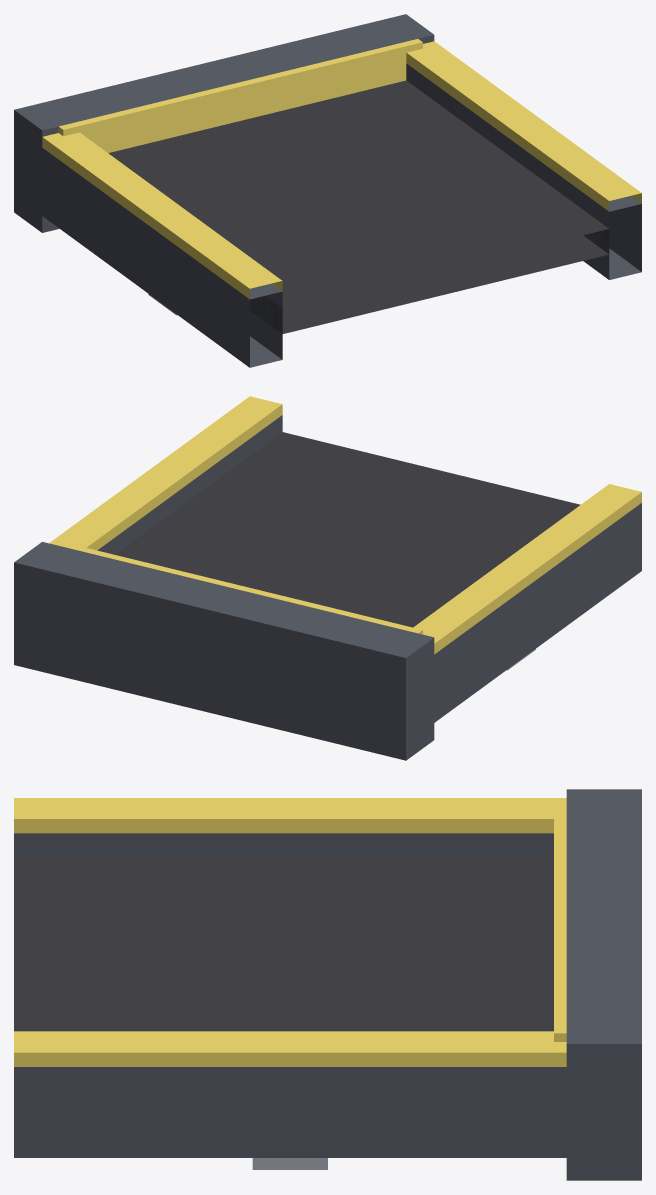
File: esteira_fim.glb
The picture shows the model from 3 angles, top to bottom: view 1: azimuth 30°, elevation 25°; view 2: azimuth 150°, elevation 25°; view 3: azimuth 270°, elevation 25°; orthographic projection. The views are drawn at different scales.
Parts seen in each view (by area): view 1: EST_Fim; view 2: EST_Fim; view 3: EST_Fim.
Boxes of the visible parts, box(x1,y1,x2,y2) form: EST_Fim: box(14, 14, 641, 367); EST_Fim: box(14, 396, 641, 760); EST_Fim: box(14, 789, 641, 1180).
Bounding box in the file's own units: 0.96 × 0.24 × 1.
